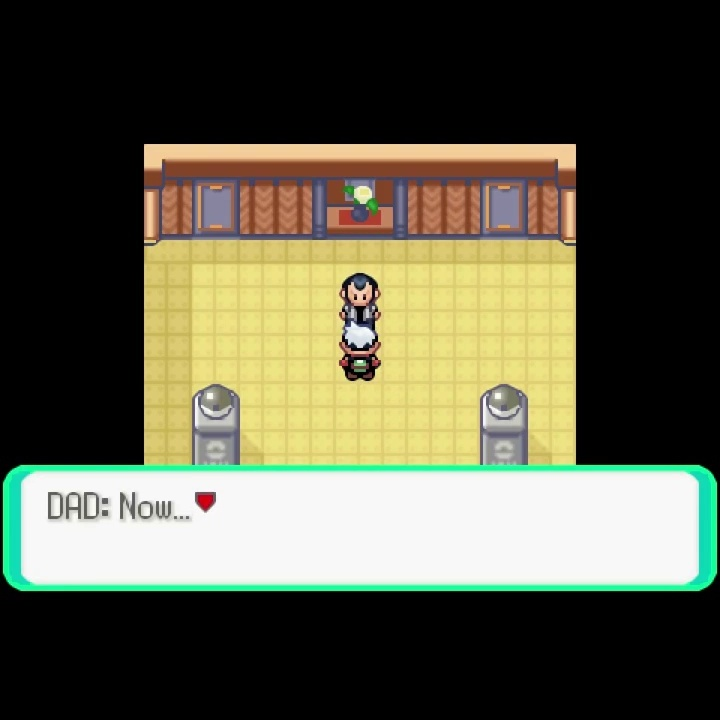agent: (335, 322, 382, 383)
npc: (336, 271, 384, 330)
